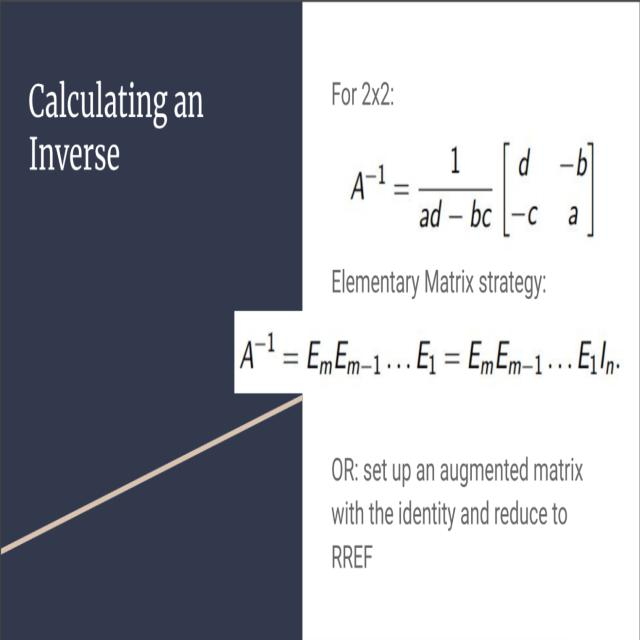equations: (349, 126, 598, 245), (238, 324, 616, 381)
